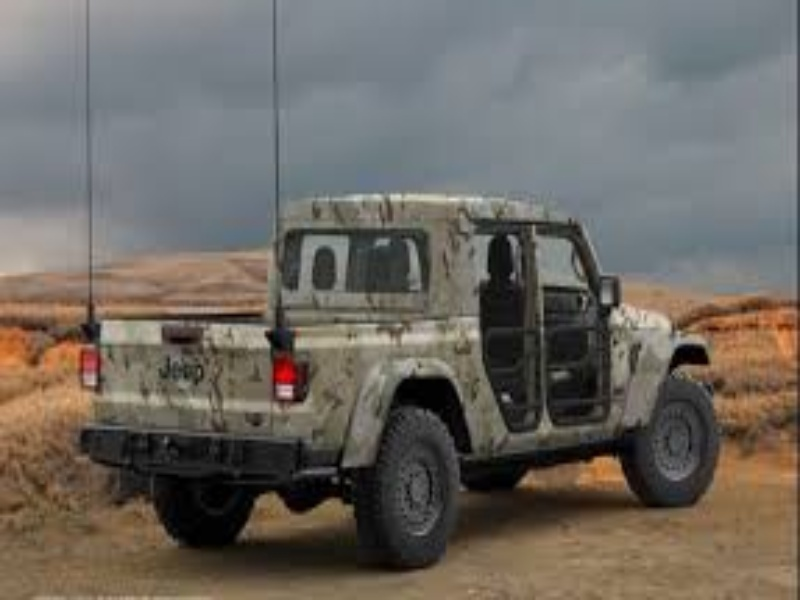jeep: (72, 190, 725, 577)
